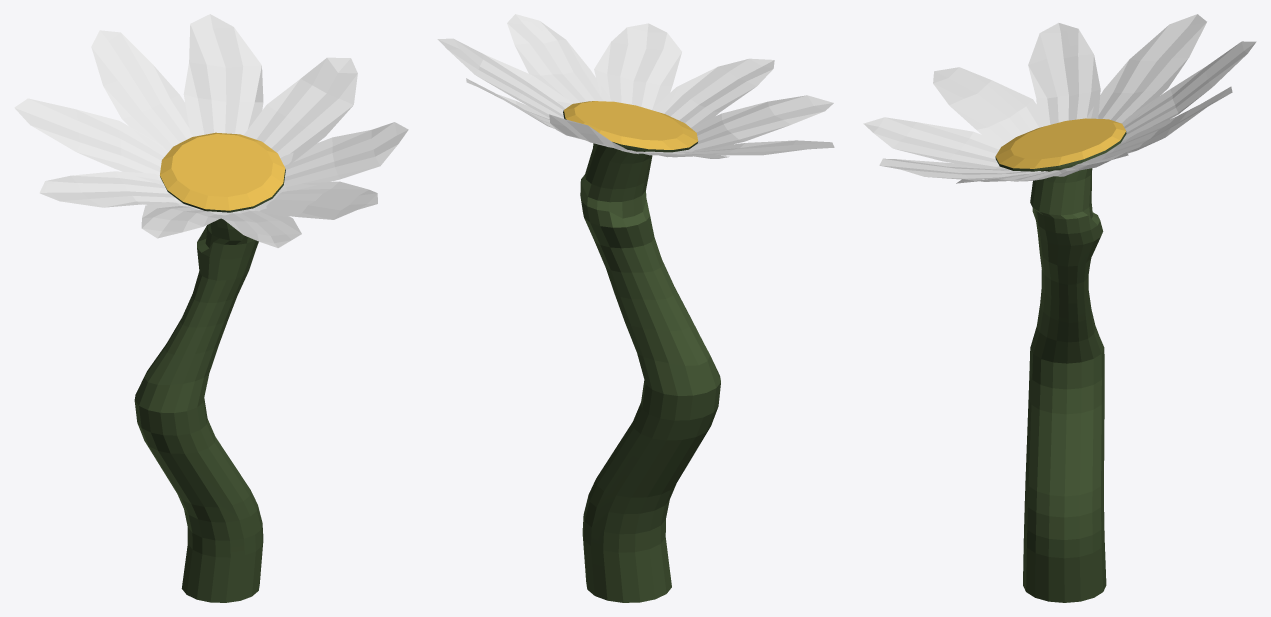
Rendered from Flower2.fbx_Flower2.fbx.
3 renders of one model, left to right at view 1: azimuth 30°, elevation 25°; view 2: azimuth 150°, elevation 25°; view 3: azimuth 270°, elevation 25°, orthographic. The views are drawn at different scales.
Visible parts, largest first — view 1: Flower.001, Stem.001; view 2: Stem.001, Flower.001; view 3: Stem.001, Flower.001.
Boxes of the visible parts, box(x1,y1,x2,y2) form: Flower.001: box(14, 14, 408, 247); Stem.001: box(134, 132, 285, 602); Stem.001: box(563, 101, 720, 602); Flower.001: box(437, 14, 834, 158); Stem.001: box(995, 118, 1126, 602); Flower.001: box(863, 14, 1256, 183).
Bounding box in the file's own units: 607 × 858 × 579.
